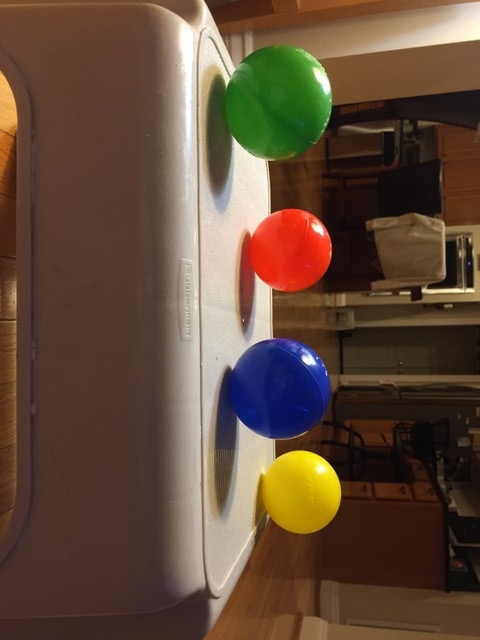Ball: (225, 48, 330, 154)
